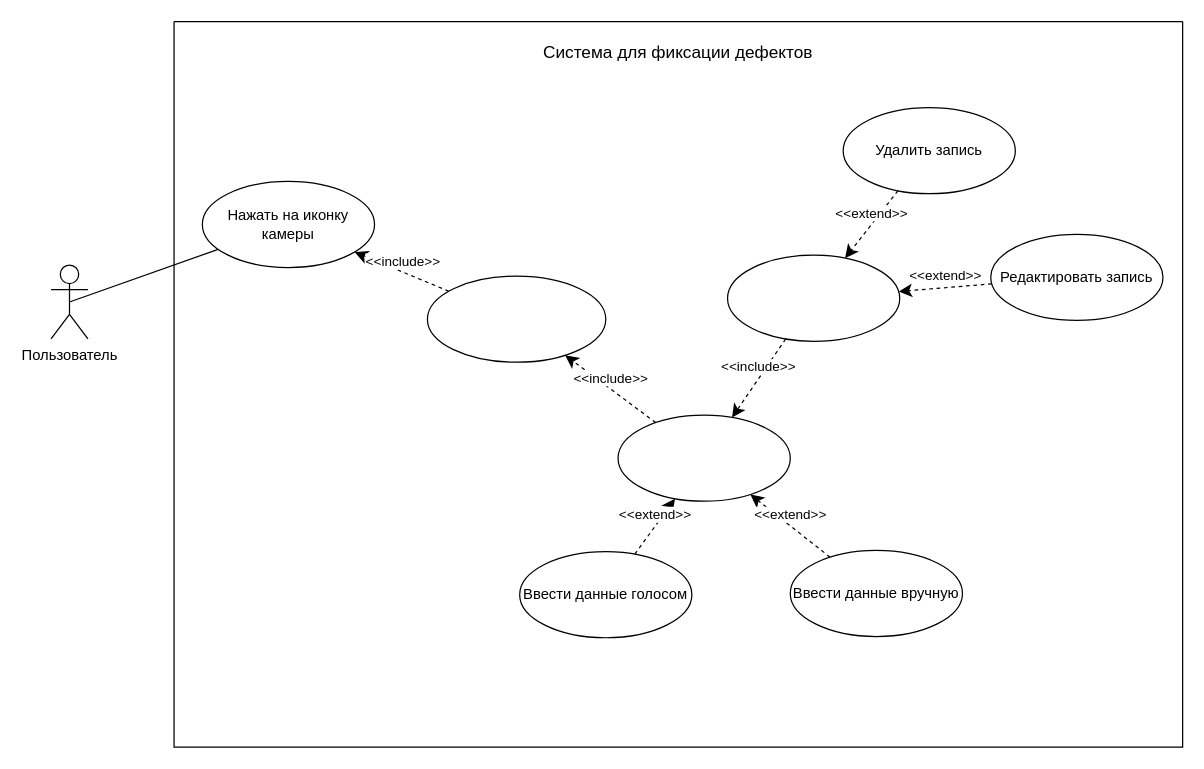
Some shapes in this 1204 by 769 pixel diagram are drawn without their labels. The centre of each missing label's shape, as x and y in pixels:
"Ввести необходимые данные" belongs at (x=703, y=457).
"Сделать фото дефекта" belongs at (x=516, y=318).
"Сохранить запись" belongs at (x=813, y=297).
